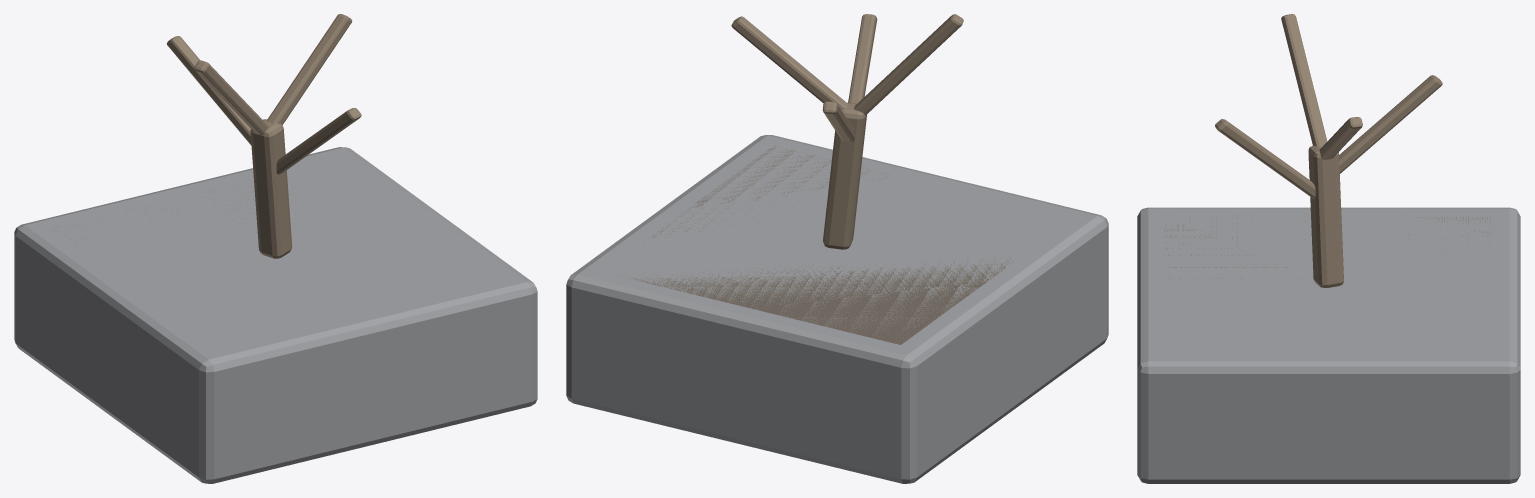
File: prop_planter.fbx
3 views of the same model, side by side, from view 1: azimuth 30°, elevation 25°; view 2: azimuth 150°, elevation 25°; view 3: azimuth 270°, elevation 25° (orthographic). The views are drawn at different scales.
Visible parts, largest first — view 1: prop_planter; view 2: prop_planter; view 3: prop_planter.
Boxes of the visible parts, bbox=[...] form: prop_planter: bbox=[14, 14, 537, 483]; prop_planter: bbox=[566, 14, 1108, 483]; prop_planter: bbox=[1137, 14, 1520, 483].
Bounding box in the file's own units: 1 × 1 × 1.
